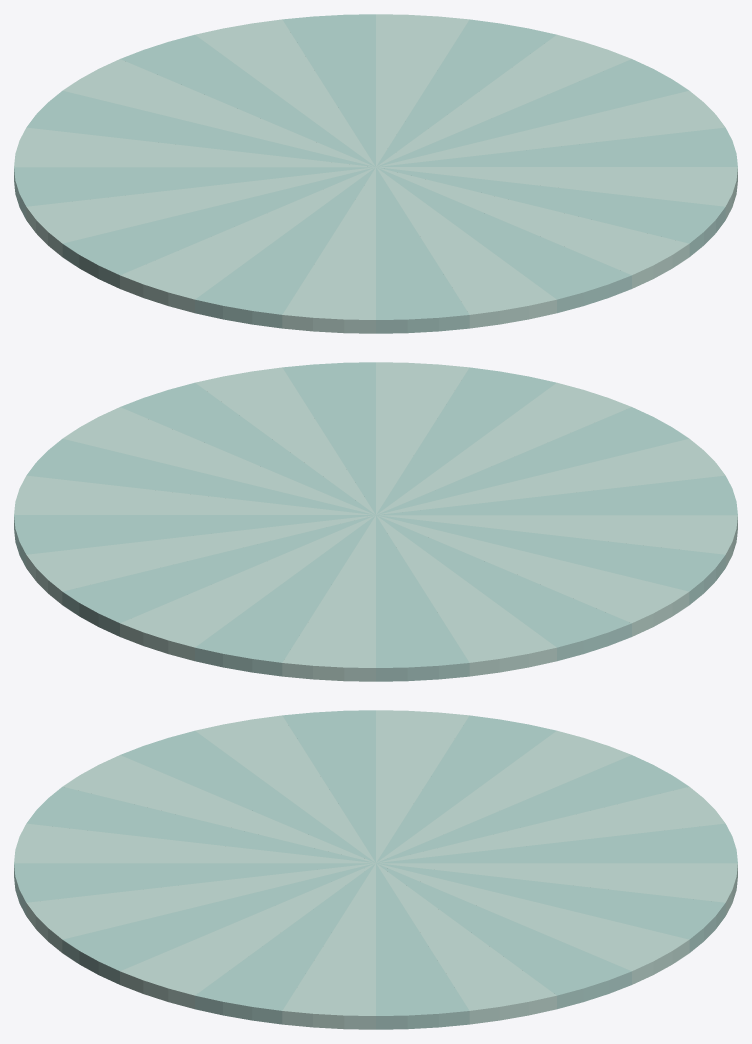
The model's file is hi3d-hi3d-floor-fragments-D48EGgPd.glb.
3 views of the same model, one above another, from view 1: azimuth 30°, elevation 25°; view 2: azimuth 150°, elevation 25°; view 3: azimuth 270°, elevation 25° (orthographic).
Visible parts, largest first — view 1: FLOOR_FRAGMENT_08, FLOOR_FRAGMENT_07, FLOOR_FRAGMENT_06, FLOOR_FRAGMENT_09, FLOOR_FRAGMENT_05, FLOOR_FRAGMENT_10, FLOOR_FRAGMENT_04, FLOOR_FRAGMENT_11, FLOOR_FRAGMENT_03, FLOOR_FRAGMENT_12, FLOOR_FRAGMENT_14, FLOOR_FRAGMENT_02 (+12 smaller); view 2: FLOOR_FRAGMENT_15, FLOOR_FRAGMENT_16, FLOOR_FRAGMENT_14, FLOOR_FRAGMENT_17, FLOOR_FRAGMENT_18, FLOOR_FRAGMENT_13, FLOOR_FRAGMENT_12, FLOOR_FRAGMENT_19, FLOOR_FRAGMENT_20, FLOOR_FRAGMENT_11, FLOOR_FRAGMENT_09, FLOOR_FRAGMENT_21 (+12 smaller); view 3: FLOOR_FRAGMENT_00, FLOOR_FRAGMENT_23, FLOOR_FRAGMENT_01, FLOOR_FRAGMENT_22, FLOOR_FRAGMENT_02, FLOOR_FRAGMENT_21, FLOOR_FRAGMENT_03, FLOOR_FRAGMENT_20, FLOOR_FRAGMENT_04, FLOOR_FRAGMENT_19, FLOOR_FRAGMENT_06, FLOOR_FRAGMENT_17 (+12 smaller).
Part boxes in pixels (x1,y1,x2,y2): FLOOR_FRAGMENT_08: (282, 167, 375, 333); FLOOR_FRAGMENT_07: (376, 167, 469, 333); FLOOR_FRAGMENT_06: (376, 167, 556, 328); FLOOR_FRAGMENT_09: (195, 167, 375, 328); FLOOR_FRAGMENT_05: (377, 167, 631, 313); FLOOR_FRAGMENT_10: (120, 167, 374, 313); FLOOR_FRAGMENT_04: (377, 167, 689, 288); FLOOR_FRAGMENT_11: (62, 167, 374, 288); FLOOR_FRAGMENT_03: (377, 167, 725, 256); FLOOR_FRAGMENT_12: (26, 167, 374, 256); FLOOR_FRAGMENT_14: (14, 127, 375, 167); FLOOR_FRAGMENT_02: (376, 167, 737, 219); FLOOR_FRAGMENT_15: (376, 515, 469, 681); FLOOR_FRAGMENT_16: (282, 515, 375, 681); FLOOR_FRAGMENT_14: (376, 515, 556, 676); FLOOR_FRAGMENT_17: (195, 515, 375, 676); FLOOR_FRAGMENT_18: (120, 515, 374, 661); FLOOR_FRAGMENT_13: (377, 515, 631, 661); FLOOR_FRAGMENT_12: (377, 515, 689, 636); FLOOR_FRAGMENT_19: (62, 515, 374, 636); FLOOR_FRAGMENT_20: (26, 515, 374, 604); FLOOR_FRAGMENT_11: (377, 515, 725, 604); FLOOR_FRAGMENT_09: (376, 475, 737, 515); FLOOR_FRAGMENT_21: (14, 515, 375, 567); FLOOR_FRAGMENT_00: (282, 863, 375, 1029); FLOOR_FRAGMENT_23: (376, 863, 469, 1029); FLOOR_FRAGMENT_01: (195, 863, 375, 1024); FLOOR_FRAGMENT_22: (376, 863, 556, 1024); FLOOR_FRAGMENT_02: (120, 863, 374, 1009); FLOOR_FRAGMENT_21: (377, 863, 631, 1009); FLOOR_FRAGMENT_03: (62, 863, 374, 984); FLOOR_FRAGMENT_20: (377, 863, 689, 984); FLOOR_FRAGMENT_04: (26, 863, 374, 952); FLOOR_FRAGMENT_19: (377, 863, 725, 952); FLOOR_FRAGMENT_06: (14, 823, 375, 863); FLOOR_FRAGMENT_17: (376, 823, 737, 863).
Size of the model in its own units: 24 by 0.4998 by 24.
